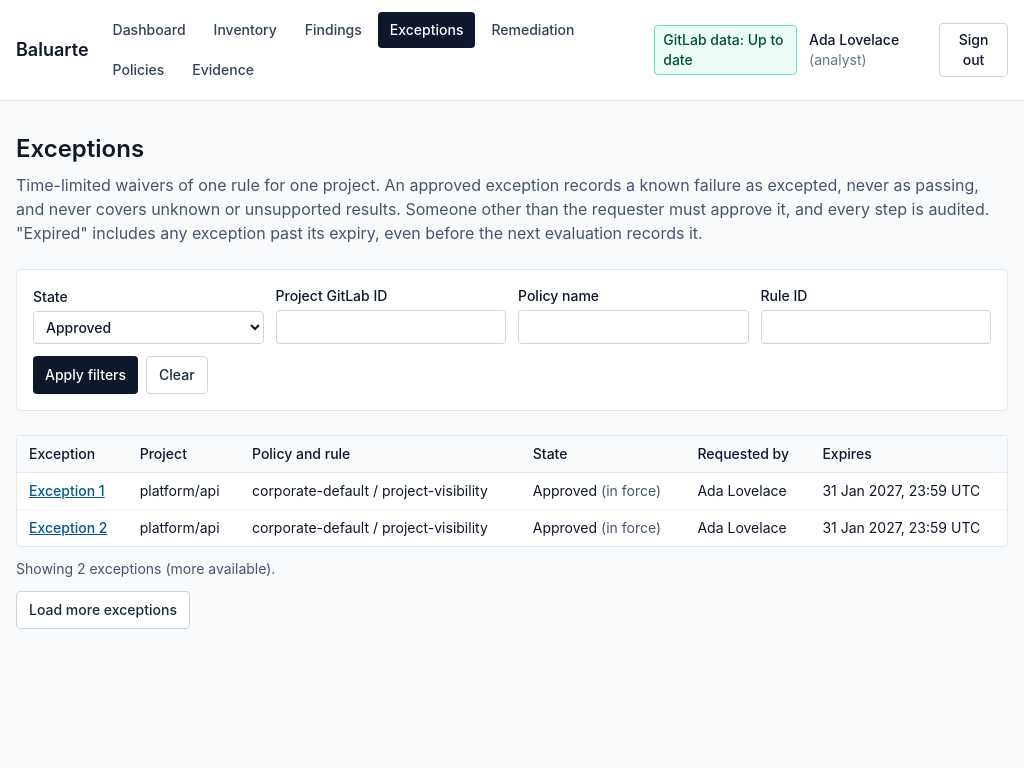
it: exceptions list › lists exceptions, pages, and keeps filters in the URL
This screenshot has width=1024, height=768.
Expected: the row "Exception 1" shows "platform/api", [140,482,220,499]
Expected: the row "Exception 1" shows "corporate-default / project-visibility", [252,482,488,499]
Click the button "Load more exceptions" at {"x": 103, "y": 610}, box [16,591,190,629]
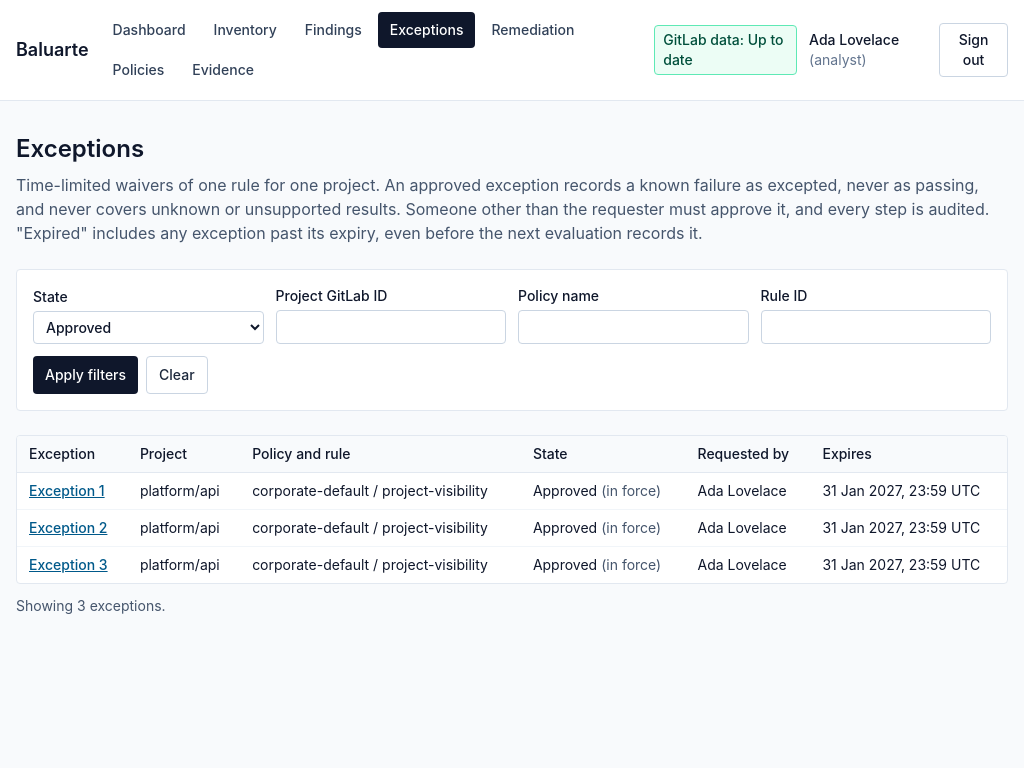
Now the column heading "Exception 3" is shown, box [17,546,128,583]
Select "Expired" in the dropdown labelled "State" at {"x": 148, "y": 328}, box [33,311,264,344]
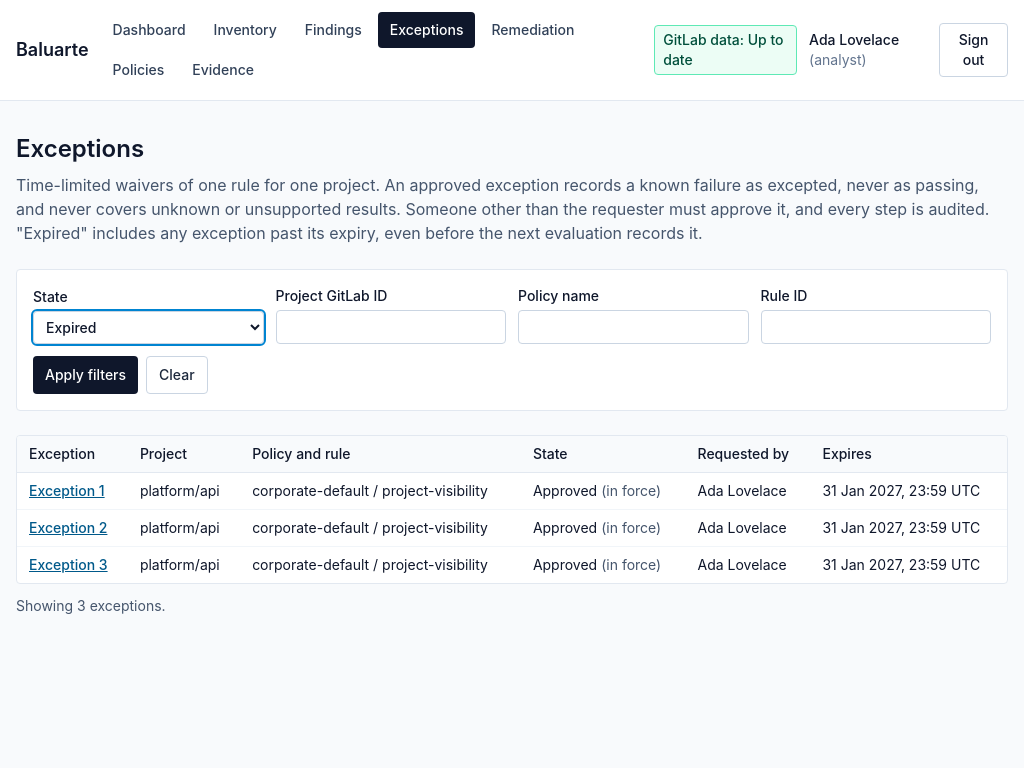
Type "105" into the number field labelled "Project GitLab ID" at {"x": 391, "y": 327}, box [276,310,506,344]
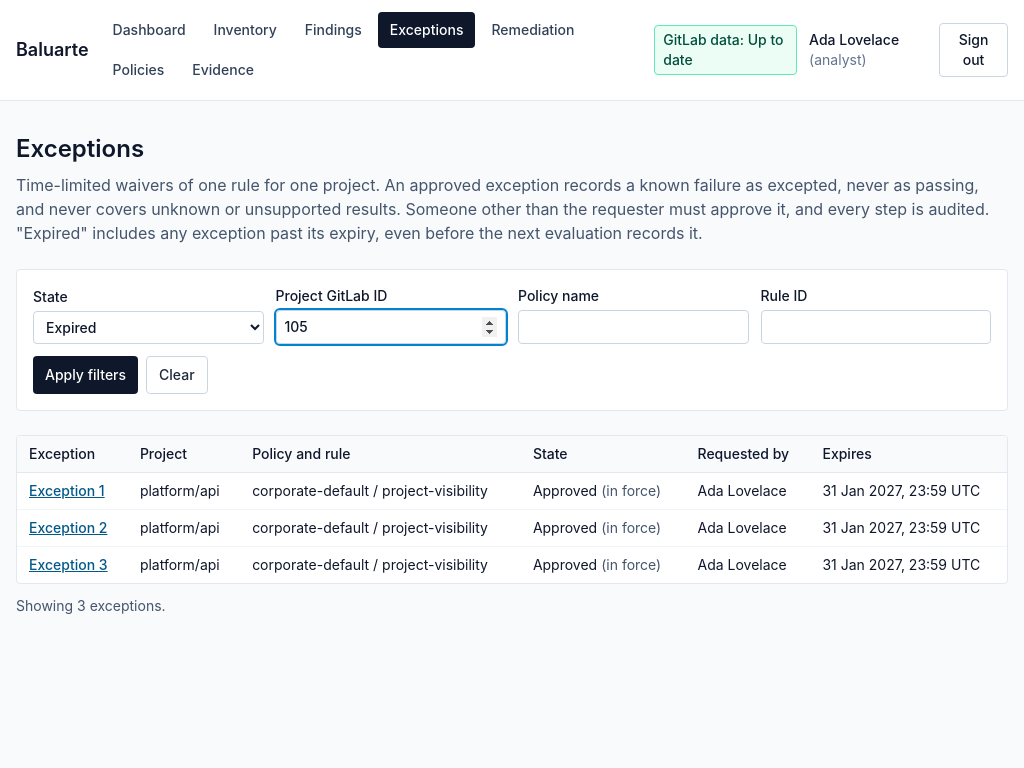
Click the button "Apply filters" at {"x": 86, "y": 375}, box [33,356,138,394]
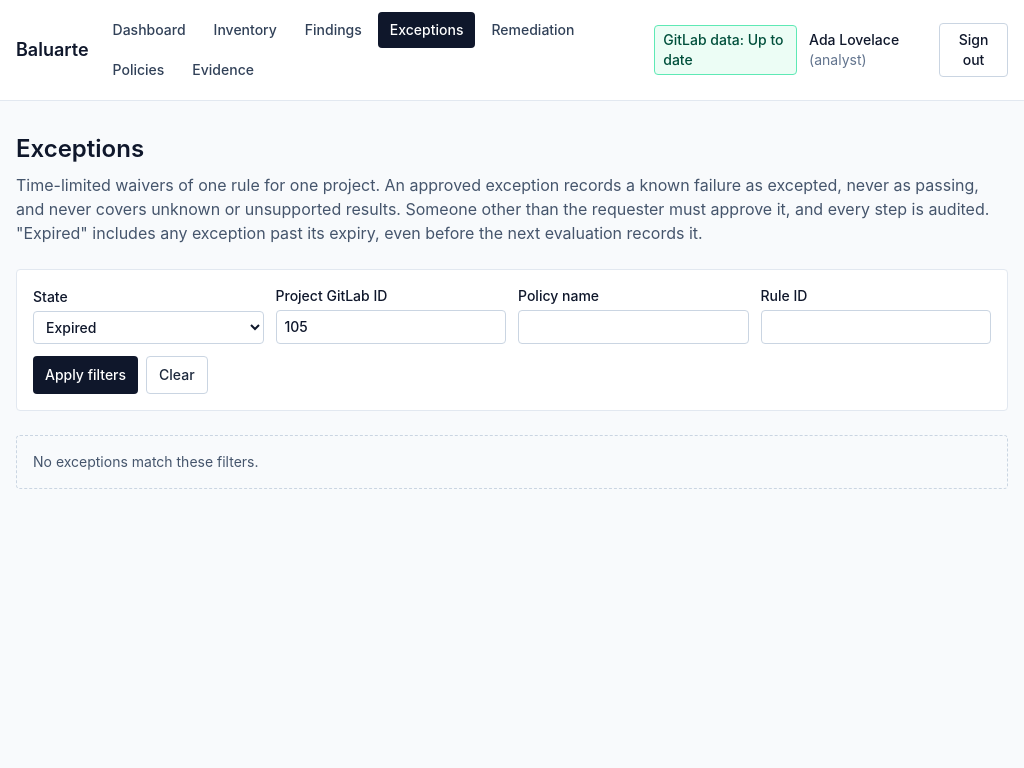
Now the text "No exceptions match these filters." is shown, box [16,435,1008,489]
